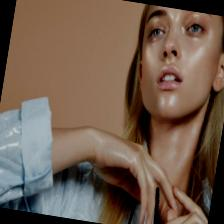Oily: (142, 5, 218, 117)
